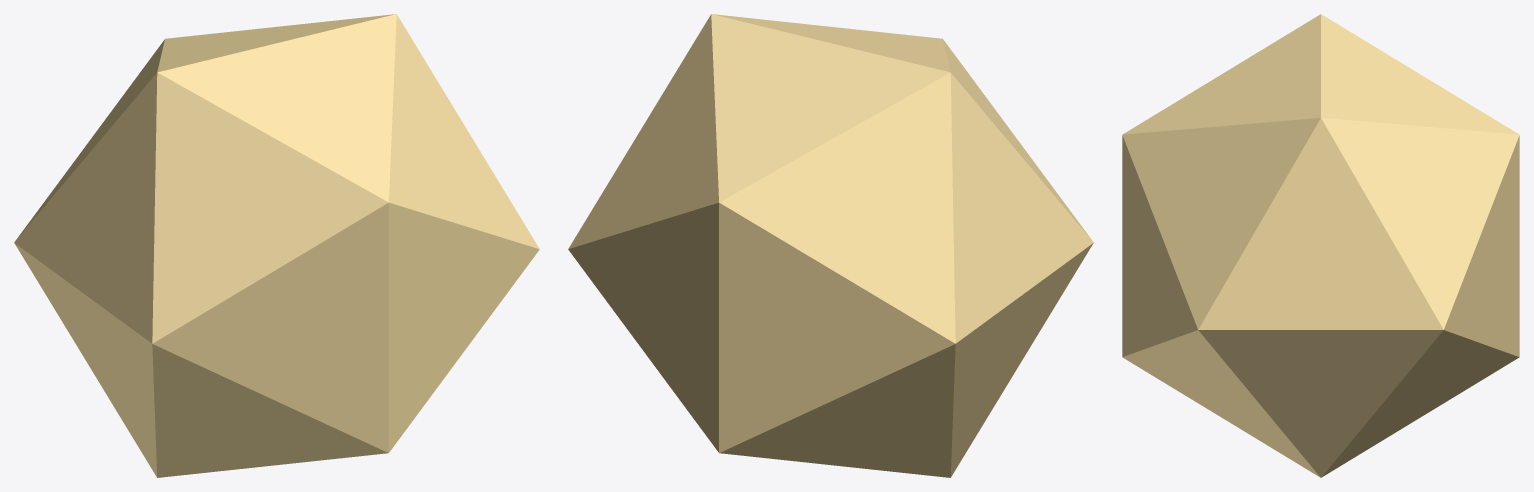
The model's file is effects.gltf.
3 views of the same model, side by side, from view 1: azimuth 30°, elevation 25°; view 2: azimuth 150°, elevation 25°; view 3: azimuth 270°, elevation 25° (orthographic). The views are drawn at different scales.
Parts seen in each view (by area): view 1: spark; view 2: spark; view 3: spark.
Part boxes in pixels (x1,y1,x2,y2): spark: [14, 14, 539, 477]; spark: [568, 14, 1093, 477]; spark: [1122, 14, 1519, 477].
Bounding box in the file's own units: 1.7 × 1.7 × 1.7.
